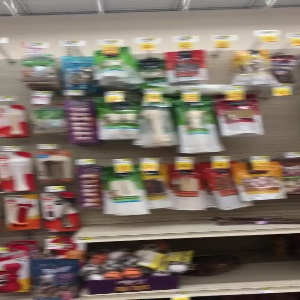void: (236, 236, 300, 283)
